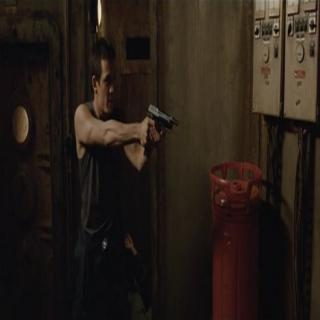gun: (138, 100, 180, 156)
